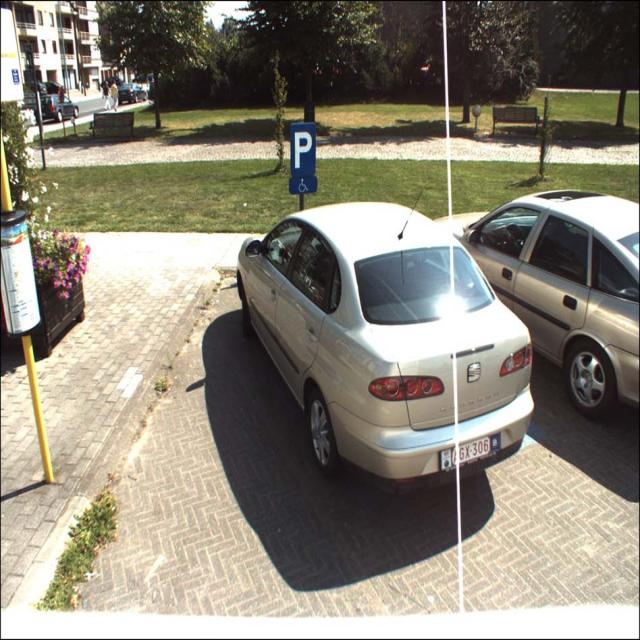park: (290, 123, 317, 177)
